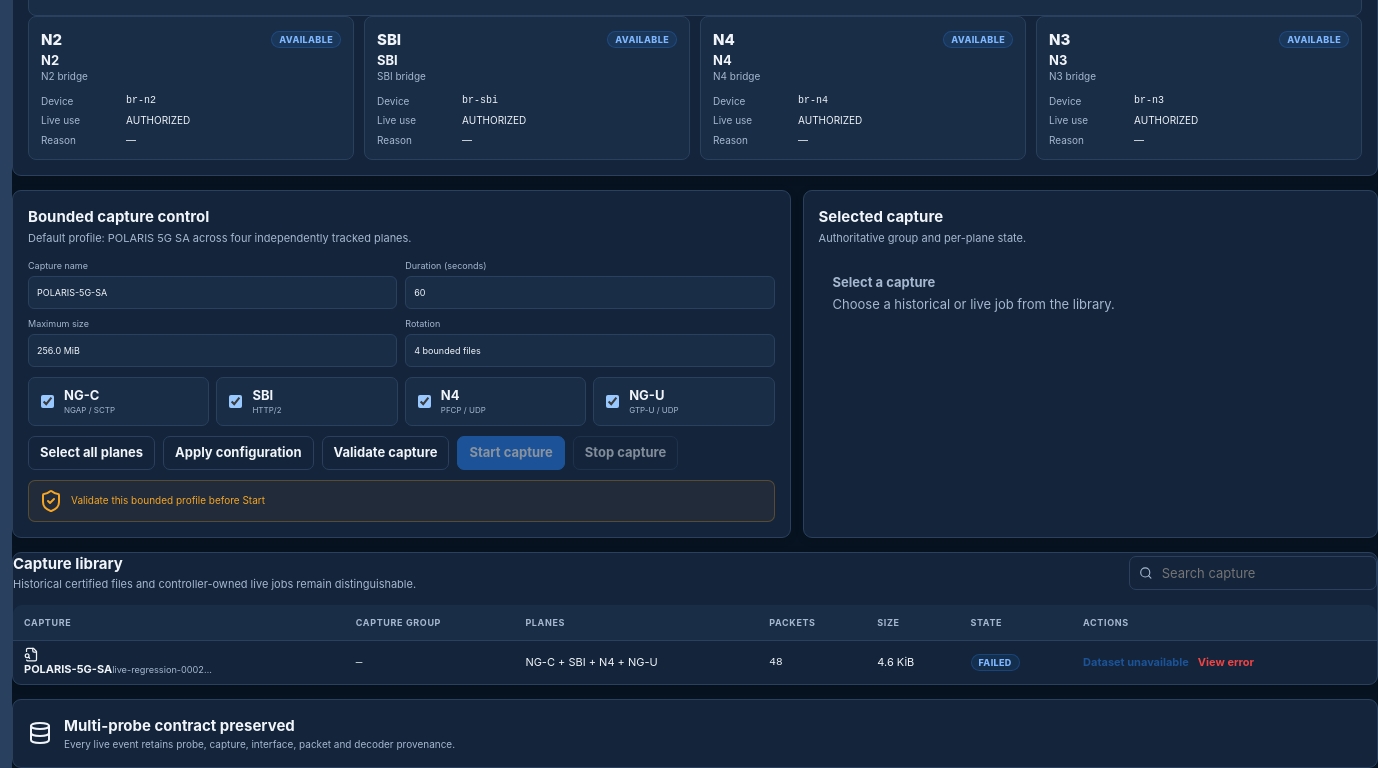
Test case: Probe Manager failed capture evidence › applies Select All and sends the canonical four-plane validation request
(page scrolled)
Click the button "Select all planes".
click(92, 453)  # box [28,436,155,470]
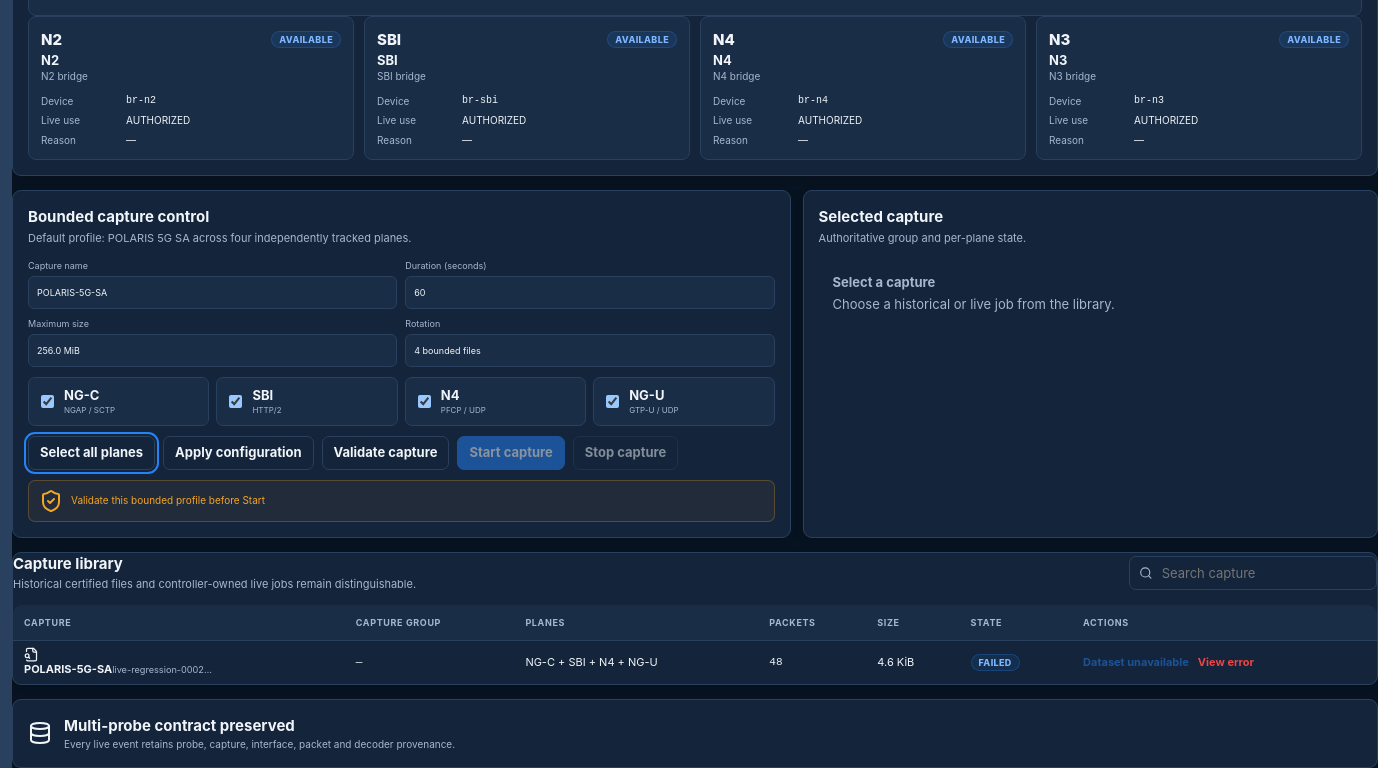
Click the button "Apply configuration".
click(238, 453)  # box [163,436,314,470]
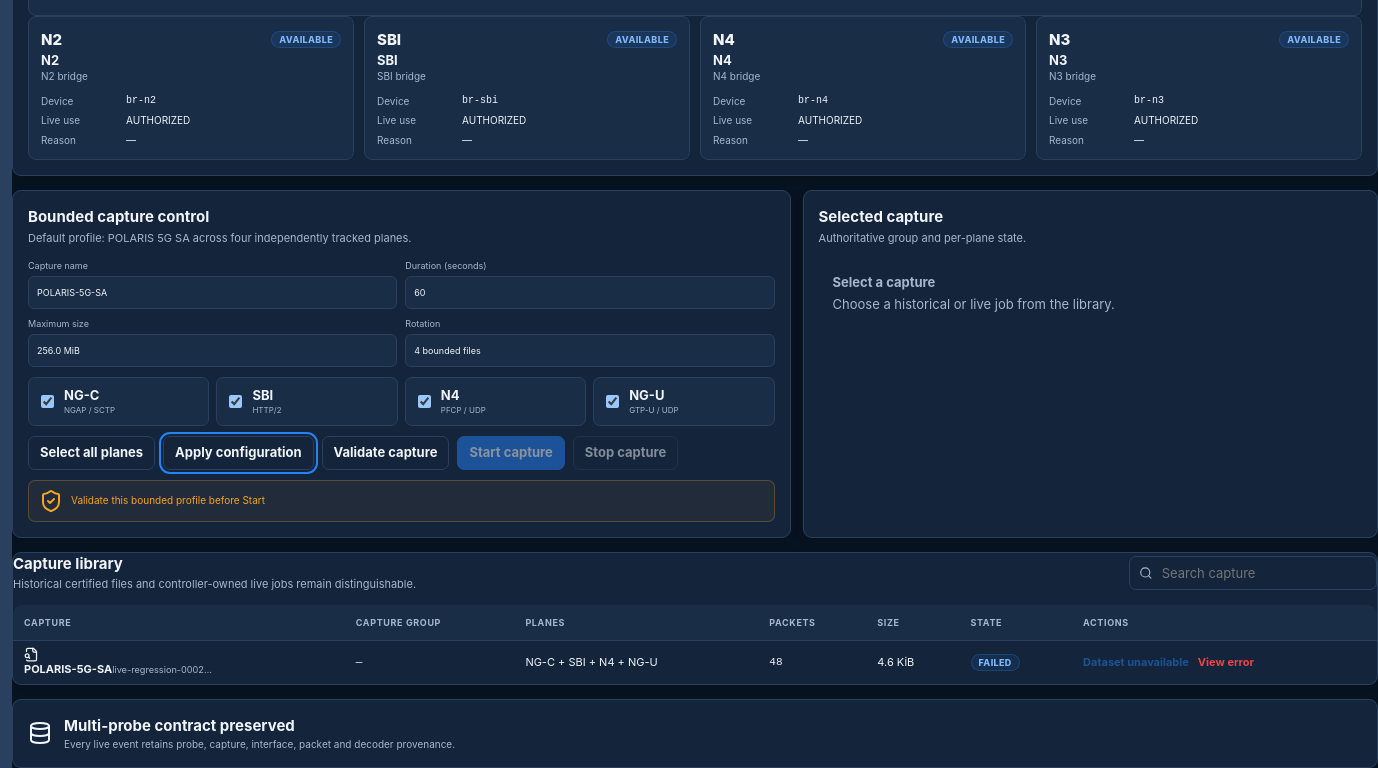
Click the button "Validate capture".
click(386, 453)  # box [322,436,449,470]
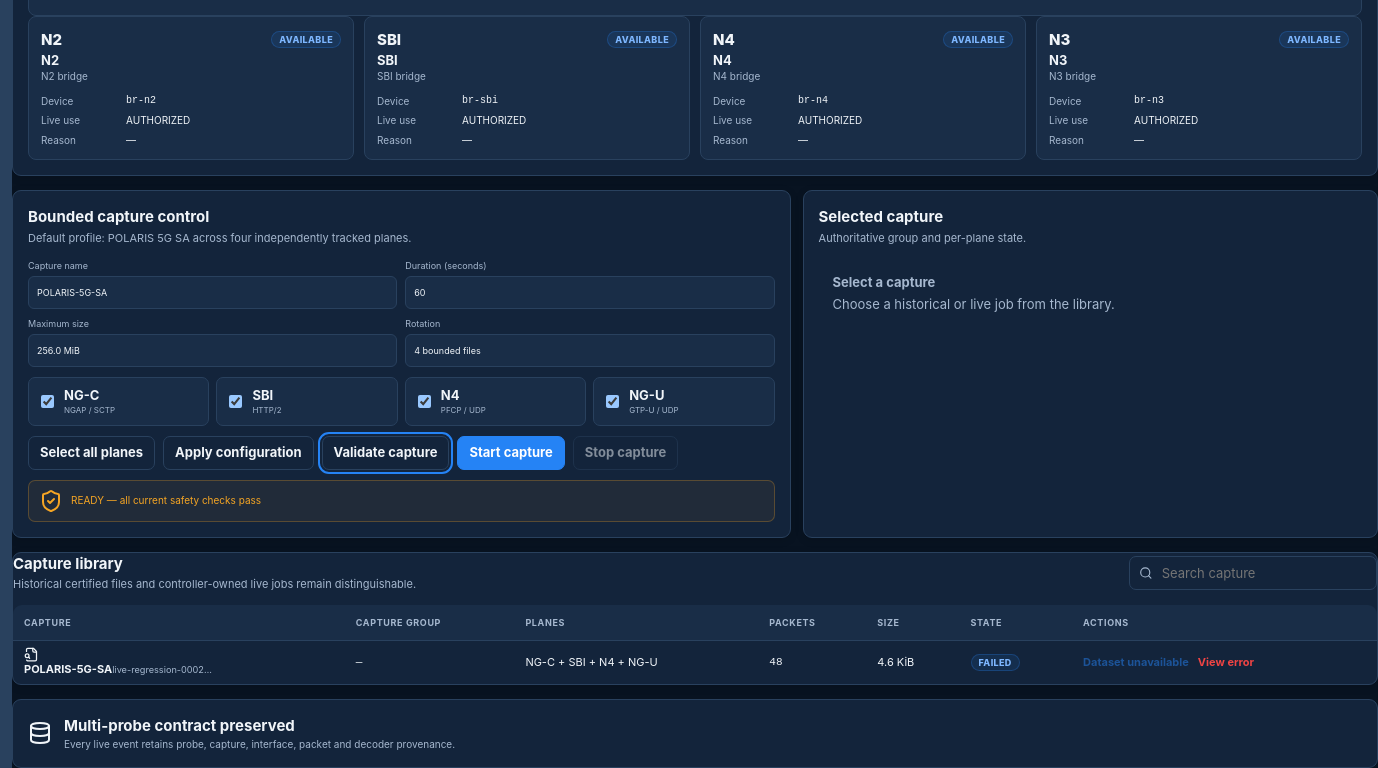
Now the text "READY — all current safety checks pass" is shown, box [28,480,774,522]
